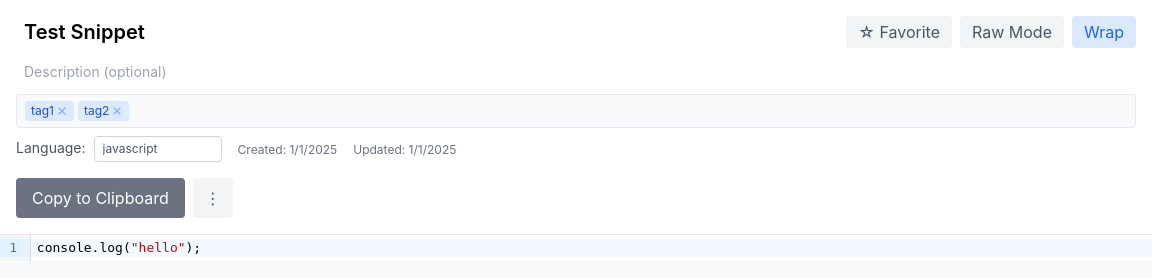
SnippetEditor › isDirty 상태 › language 변경 시 수정됨 표시가 나타난다
Replace the text in the field showing "javascript" next to "Language:" with "python" at (158, 149), box [94,136,222,162]
Then press Enter
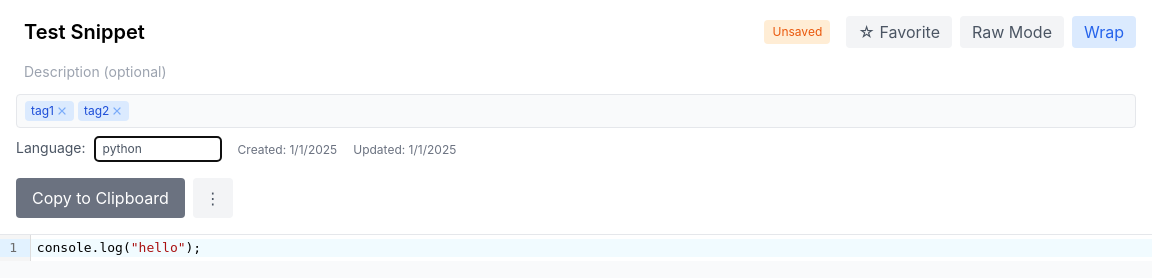
Expected: the text "Unsaved" is shown, [764,20,830,44]
